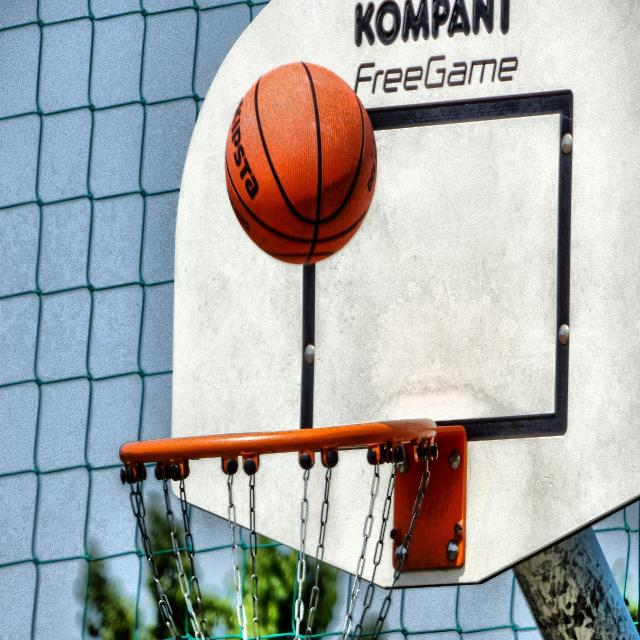board: (225, 60, 379, 265)
rim: (109, 415, 482, 640)
